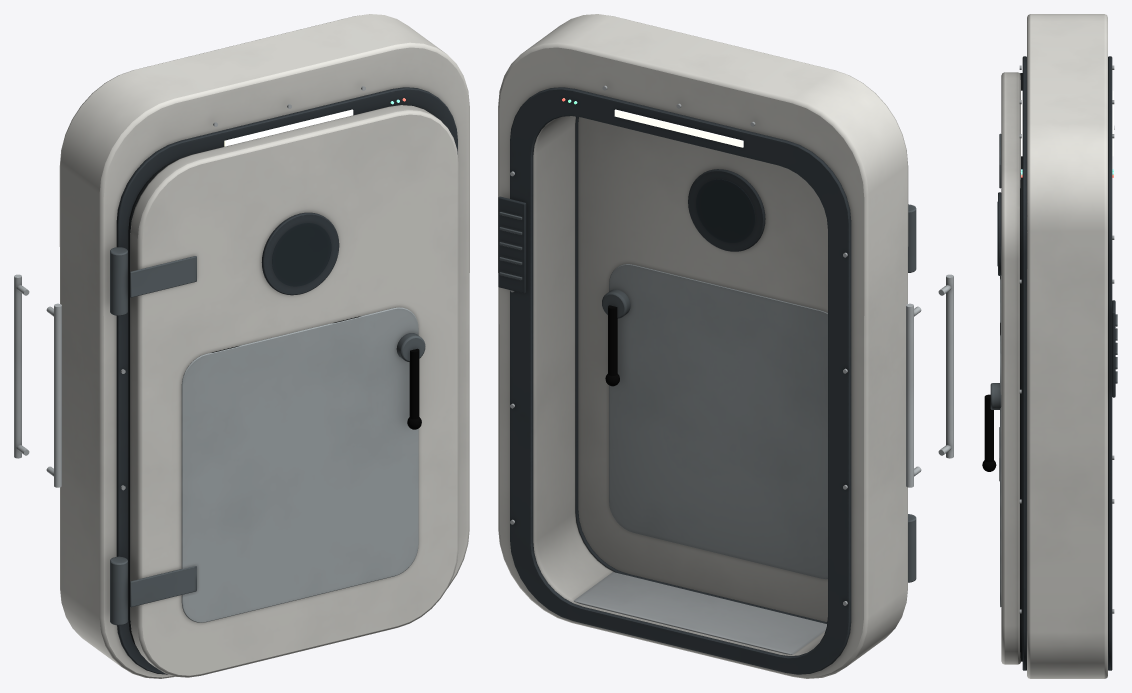
File: bulkhead_hatch.glb
3 renders of one model, left to right at view 1: azimuth 30°, elevation 25°; view 2: azimuth 150°, elevation 25°; view 3: azimuth 270°, elevation 25°, orthographic. The views are drawn at different scales.
Parts seen in each view (by area): view 1: leaf_panel_shell_white, hatch_frame_shell_white, leaf_inset_front_panel_cool, hatch_trim_back_frame_graphite, leaf_window_rim_front_frame_graphite, leaf_window_front_dark_glass, leaf_strap_162_dark_alloy, leaf_strap_42_dark_alloy, hatch_handrail_front_satin_alloy, hatch_handrail_back_satin_alloy, hatch_gasket_black_rubber, leaf_lever_front_accent_orange (+3 smaller); view 2: hatch_frame_shell_white, leaf_inset_back_panel_cool, leaf_panel_shell_white, hatch_trim_front_frame_graphite, hatch_tread_satin_alloy, leaf_window_rim_back_frame_graphite, leaf_window_back_dark_glass, hatch_equaliser_vent, hatch_trim_back_frame_graphite, hatch_handrail_back_satin_alloy, hatch_handrail_front_satin_alloy, leaf_lever_back_accent_orange (+1 smaller); view 3: hatch_frame_shell_white, leaf_panel_shell_white, hatch_trim_back_frame_graphite, hatch_trim_front_frame_graphite, hatch_gasket_black_rubber, leaf_lever_front_accent_orange, leaf_inset_front_panel_cool, hatch_equaliser_vent, leaf_window_rim_front_frame_graphite.
Boxes of the visible parts, bbox=[...] form: leaf_panel_shell_white: bbox=[130, 105, 458, 677]; hatch_frame_shell_white: bbox=[59, 14, 469, 678]; leaf_inset_front_panel_cool: bbox=[181, 307, 418, 622]; hatch_trim_back_frame_graphite: bbox=[116, 87, 457, 674]; leaf_window_rim_front_frame_graphite: bbox=[261, 212, 339, 295]; leaf_window_front_dark_glass: bbox=[272, 223, 331, 286]; leaf_strap_162_dark_alloy: bbox=[130, 256, 196, 297]; leaf_strap_42_dark_alloy: bbox=[130, 566, 196, 607]; hatch_handrail_front_satin_alloy: bbox=[14, 274, 29, 458]; hatch_handrail_back_satin_alloy: bbox=[46, 303, 61, 487]; hatch_gasket_black_rubber: bbox=[128, 105, 432, 650]; leaf_lever_front_accent_orange: bbox=[396, 333, 425, 429]; hatch_frame_shell_white: bbox=[498, 14, 908, 678]; leaf_inset_back_panel_cool: bbox=[609, 264, 827, 579]; leaf_panel_shell_white: bbox=[578, 117, 827, 621]; hatch_trim_front_frame_graphite: bbox=[510, 87, 851, 674]; hatch_tread_satin_alloy: bbox=[573, 572, 826, 654]; leaf_window_rim_back_frame_graphite: bbox=[688, 169, 765, 251]; leaf_window_back_dark_glass: bbox=[696, 179, 755, 242]; hatch_equaliser_vent: bbox=[498, 196, 526, 293]; hatch_trim_back_frame_graphite: bbox=[575, 116, 827, 623]; hatch_handrail_back_satin_alloy: bbox=[938, 274, 953, 458]; hatch_handrail_front_satin_alloy: bbox=[906, 303, 921, 487]; leaf_lever_back_accent_orange: bbox=[602, 289, 630, 386]; hatch_frame_shell_white: bbox=[1027, 14, 1107, 678]; leaf_panel_shell_white: bbox=[1001, 72, 1020, 664]; hatch_trim_back_frame_graphite: bbox=[1022, 56, 1026, 670]; hatch_trim_front_frame_graphite: bbox=[1108, 56, 1112, 670]; hatch_gasket_black_rubber: bbox=[1020, 73, 1022, 661]; leaf_lever_front_accent_orange: bbox=[982, 383, 1001, 471]; leaf_inset_front_panel_cool: bbox=[1000, 276, 1001, 607]; hatch_equaliser_vent: bbox=[1112, 300, 1117, 397]; leaf_window_rim_front_frame_graphite: bbox=[998, 192, 1001, 275].
Bounding box in the file's own units: 1.68 × 2.24 × 0.502.
Materials: 5 (1 with a texture image).
